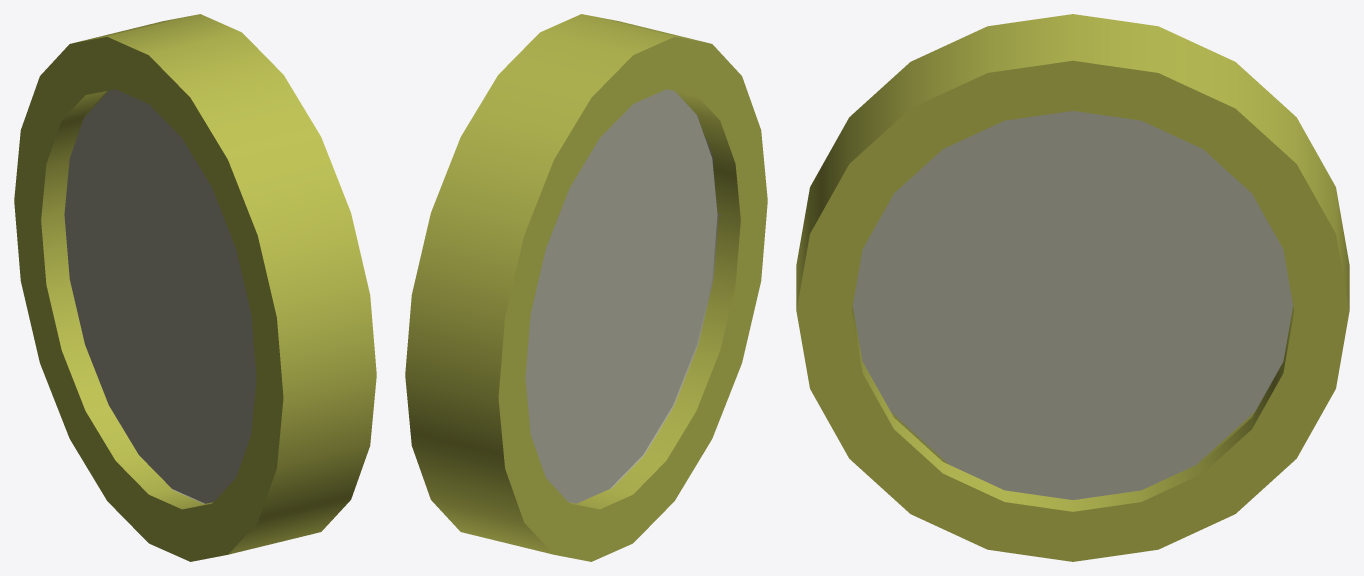
The model's file is Coin.fbx.
The picture shows the model from 3 angles, left to right: view 1: azimuth 30°, elevation 25°; view 2: azimuth 150°, elevation 25°; view 3: azimuth 270°, elevation 25°; orthographic projection. The views are drawn at different scales.
Parts seen in each view (by area): view 1: Coin; view 2: Coin; view 3: Coin.
Part boxes in pixels (left/top/right/bottom): Coin: left=14, top=14, right=376, bottom=561; Coin: left=405, top=14, right=767, bottom=561; Coin: left=796, top=14, right=1349, bottom=561.
Size of the model in its own units: 4 by 20 by 20.
